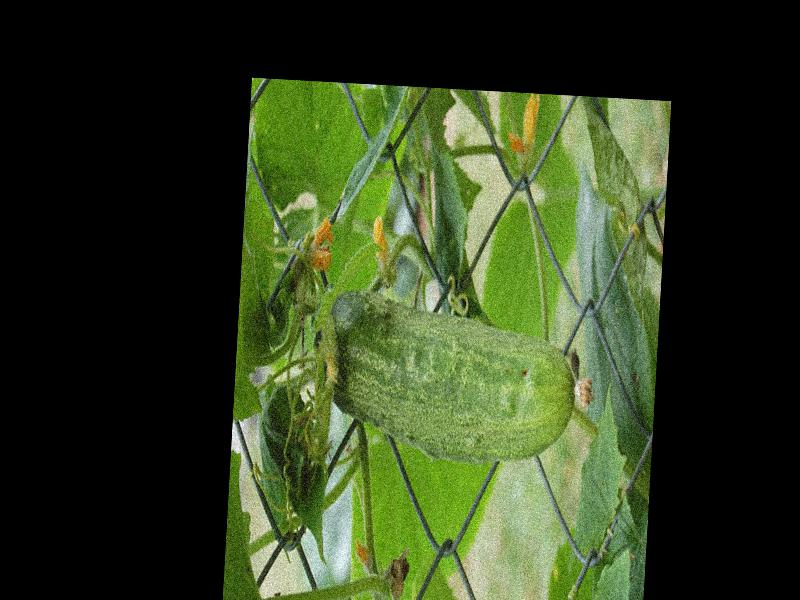Cucumber: (310, 292, 595, 465)
